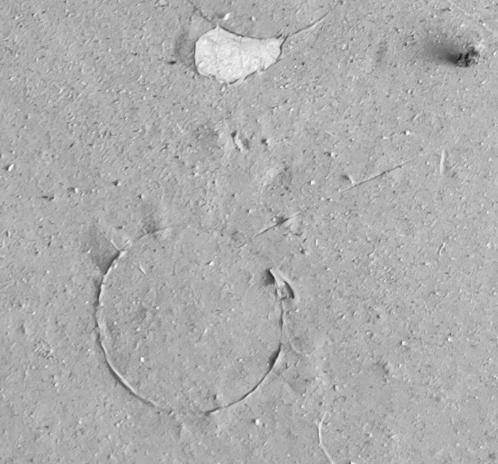paint-off: (0, 1, 498, 464)
